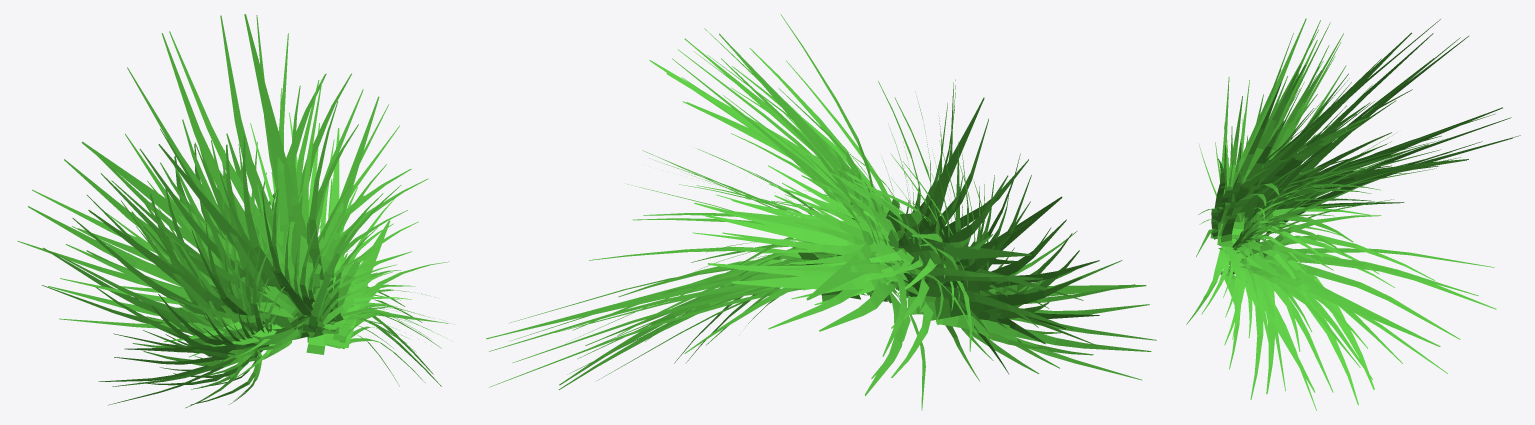
The model's file is grass3.fbx.
3 views of the same model, side by side, from view 1: azimuth 30°, elevation 25°; view 2: azimuth 150°, elevation 25°; view 3: azimuth 270°, elevation 25° (orthographic). The views are drawn at different scales.
Visible parts, largest first — view 1: Plane.001; view 2: Plane.001; view 3: Plane.001.
Boxes of the visible parts, left/top/right/bottom form: Plane.001: left=17, top=14, right=449, bottom=408; Plane.001: left=486, top=14, right=1156, bottom=410; Plane.001: left=1186, top=18, right=1520, bottom=410.
Size of the model in its own units: 728 by 573 by 549.
